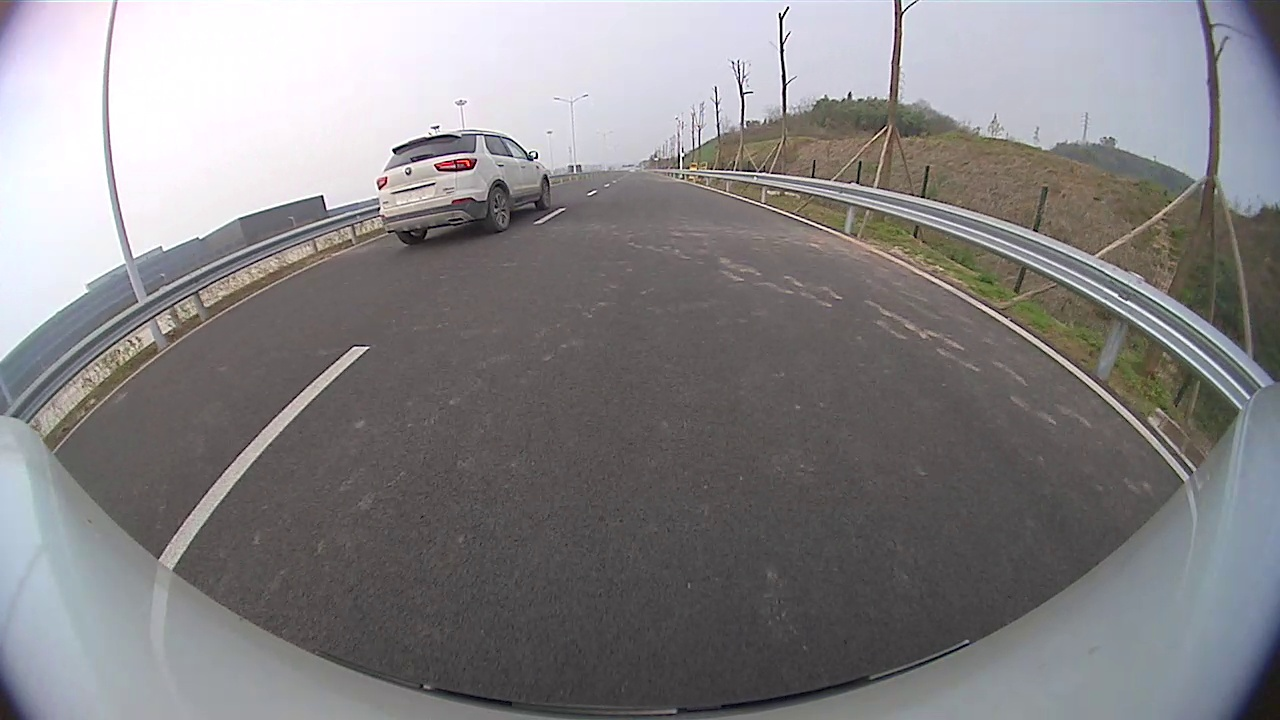car: (376, 129, 555, 245)
front: (539, 172, 552, 210)
rear: (487, 186, 512, 232)
